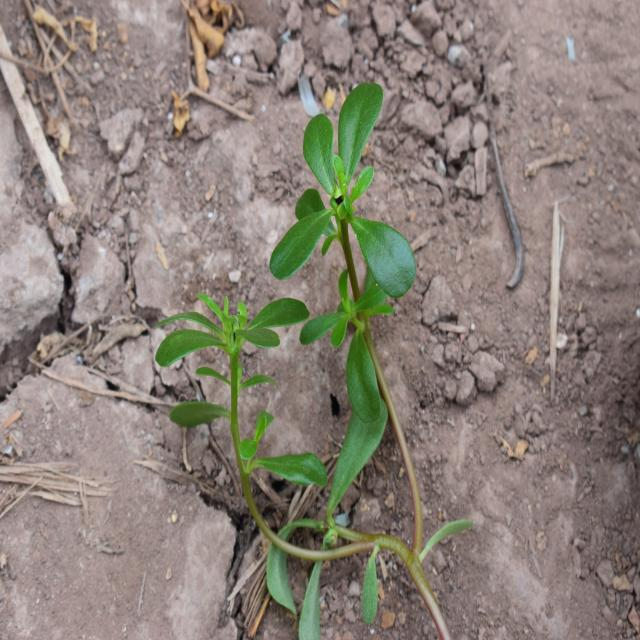purslane: (152, 78, 454, 614)
